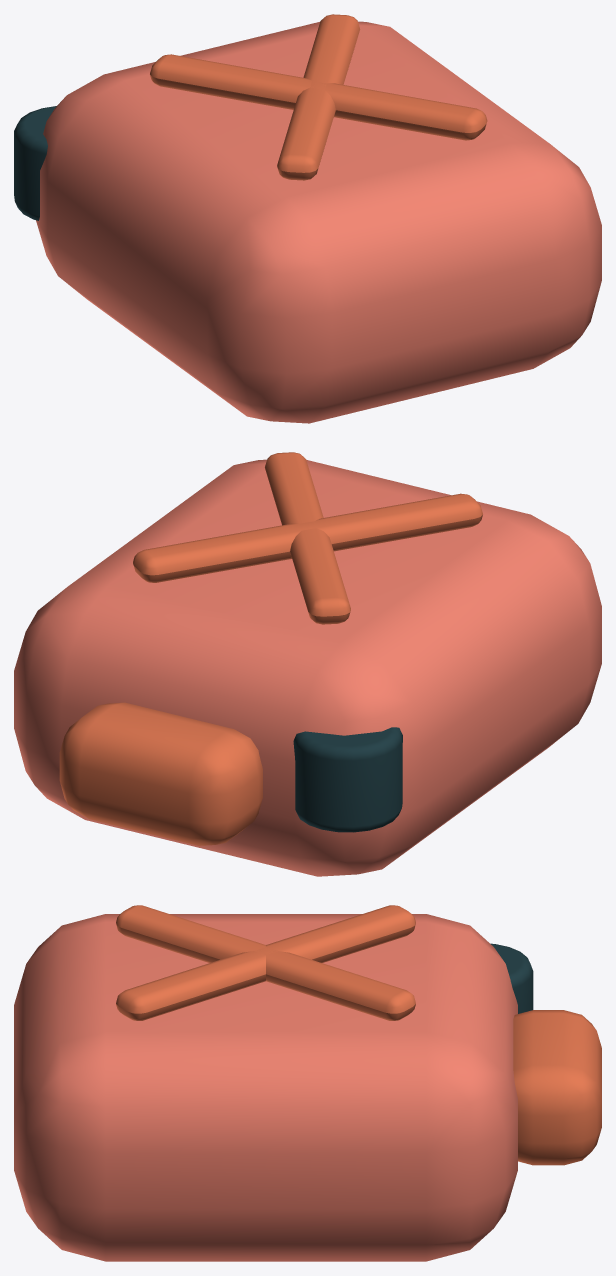
Rendered from tile_fuel.fbx.
The picture shows the model from 3 angles, top to bottom: view 1: azimuth 30°, elevation 25°; view 2: azimuth 150°, elevation 25°; view 3: azimuth 270°, elevation 25°; orthographic projection. The views are drawn at different scales.
Parts seen in each view (by area): view 1: Fuel can, Embossed brace.001, Embossed brace, Cap; view 2: Fuel can, Handle, Embossed brace, Cap, Embossed brace.001; view 3: Fuel can, Handle, Embossed brace, Embossed brace.001, Cap.
Part boxes in pixels (<box>): Fuel can: <box>36,21,601,423</box>; Embossed brace.001: <box>150,54,487,140</box>; Embossed brace: <box>277,14,360,180</box>; Cap: <box>14,106,56,220</box>; Fuel can: <box>14,459,601,876</box>; Handle: <box>59,702,262,845</box>; Embossed brace: <box>133,493,482,582</box>; Cap: <box>293,727,402,832</box>; Embossed brace.001: <box>265,452,350,624</box>; Fuel can: <box>14,914,517,1261</box>; Handle: <box>513,1010,601,1165</box>; Embossed brace: <box>116,905,415,1020</box>; Embossed brace.001: <box>116,905,415,1020</box>; Cap: <box>490,943,533,1013</box>.
Size of the model in its own units: 0.58 by 0.3575 by 0.77.
